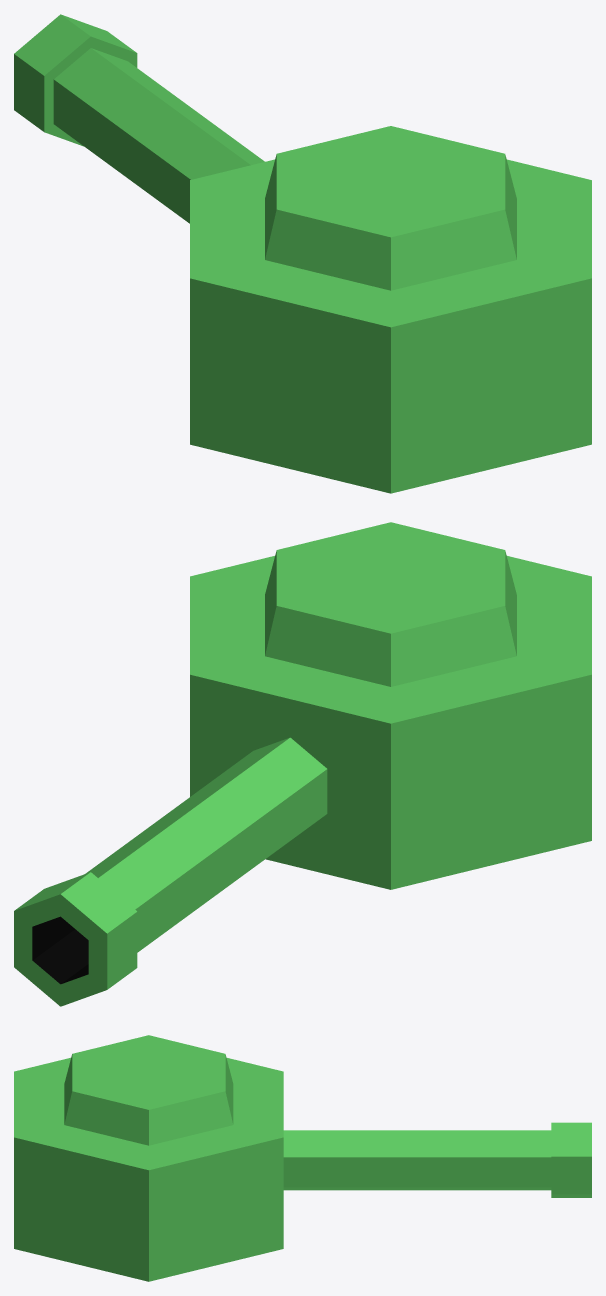
File: Gun_.glb
3 views of the same model, one above another, from view 1: azimuth 30°, elevation 25°; view 2: azimuth 150°, elevation 25°; view 3: azimuth 270°, elevation 25° (orthographic). The views are drawn at different scales.
Visible parts, largest first — view 1: Cylinder; view 2: Cylinder; view 3: Cylinder.
Part boxes in pixels (x1=…): Cylinder: x1=14, y1=14, x2=591, y2=493; Cylinder: x1=14, y1=522, x2=591, y2=1006; Cylinder: x1=14, y1=1035, x2=591, y2=1281.
Bounding box in the file's own units: 0.1833 × 0.1048 × 0.3401.
